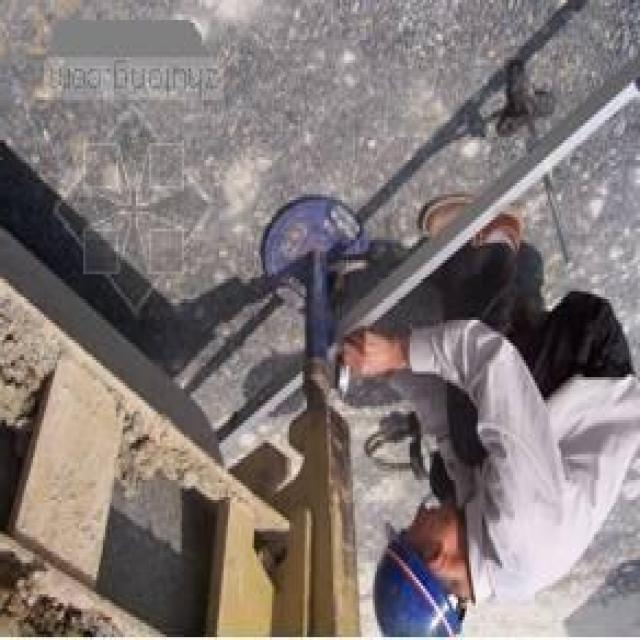helmet: (359, 522, 474, 640)
